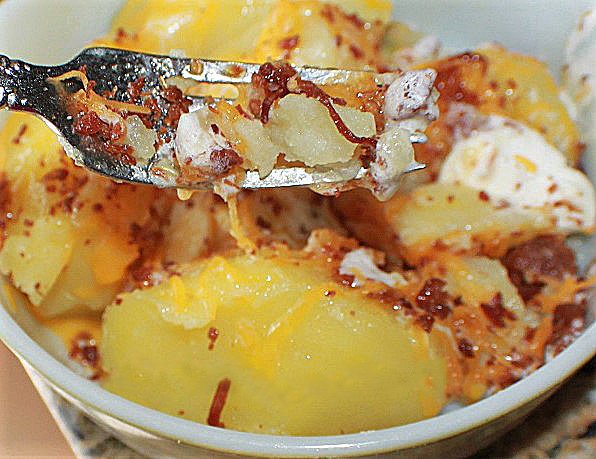boiled potatoes: (1, 2, 562, 421)
